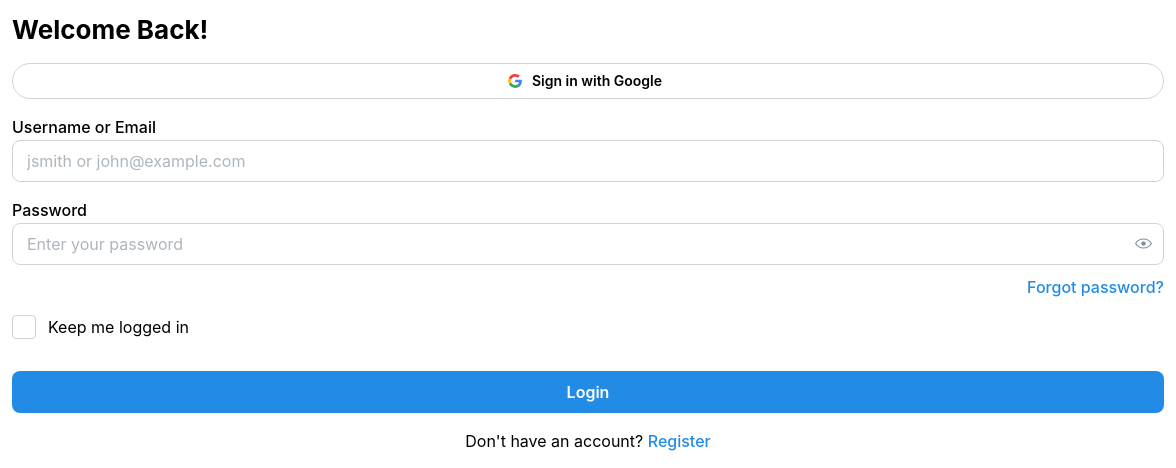
it: LoginForm › Login Form Functionality › Form Submission Behavior › Shows loading state during form submission
# Fill in the form with valid credentials
In the field labelled "Username or Email": (588, 161) x1=12 y1=140 x2=1164 y2=182, type "validUser"
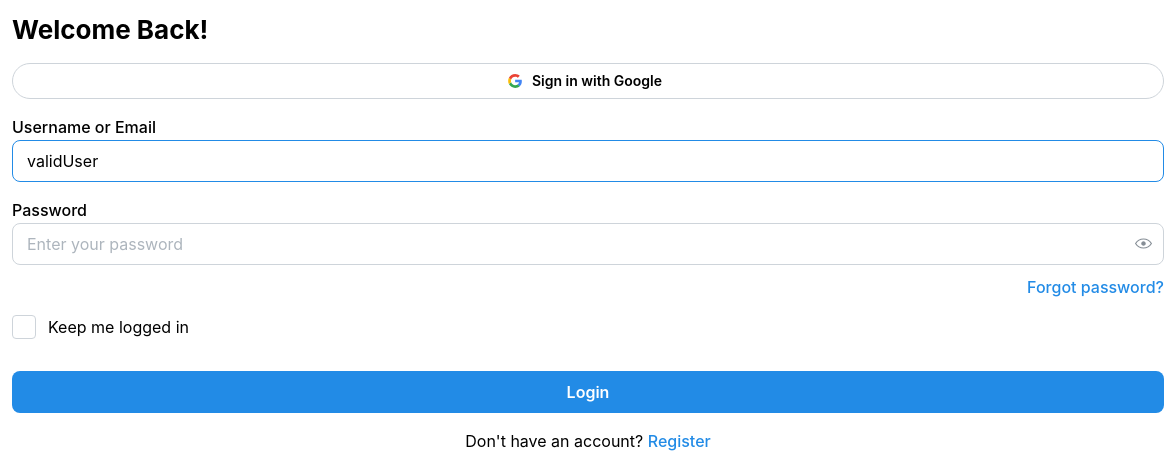
In the password field labelled "Password": (588, 244) x1=13 y1=224 x2=1163 y2=264, type "validPassword123"
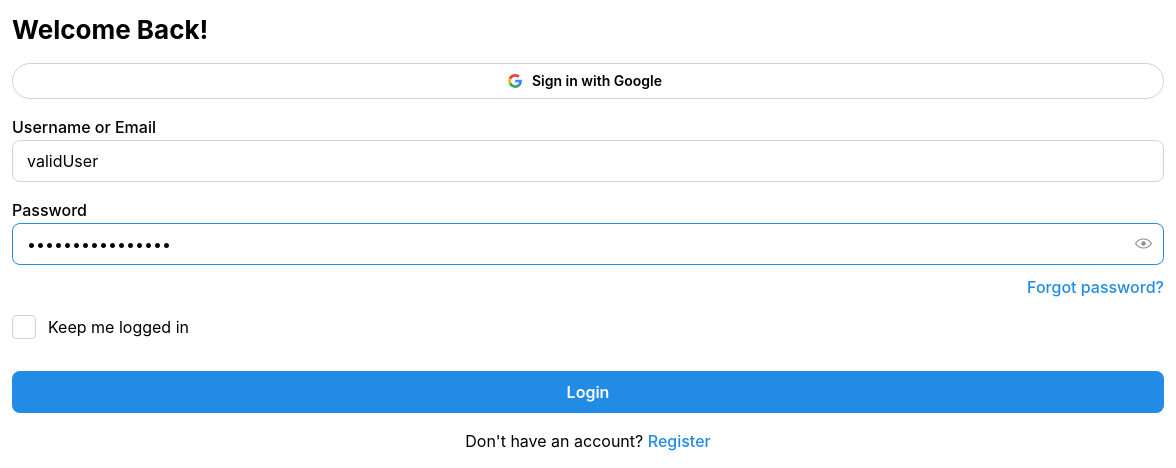
# Click the Login button
Click the button "Login": (588, 392) x1=12 y1=372 x2=1164 y2=414
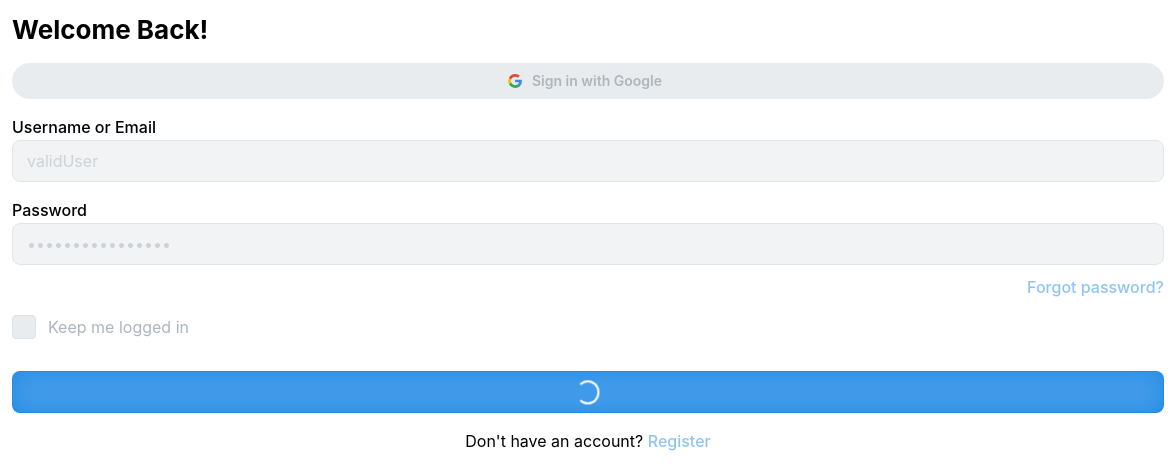
Now the button named "Login" below "Keep me logged in" is disabled, box x1=12 y1=372 x2=1164 y2=414
